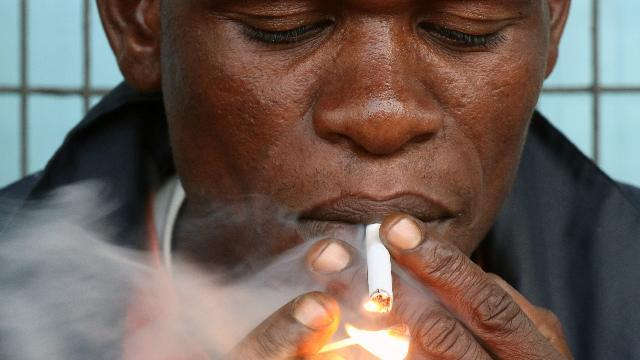Smoking: (365, 212, 395, 312)
